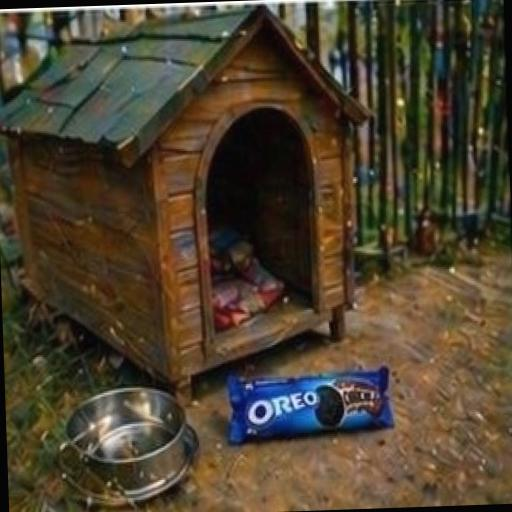oreo: (124, 281, 435, 499)
